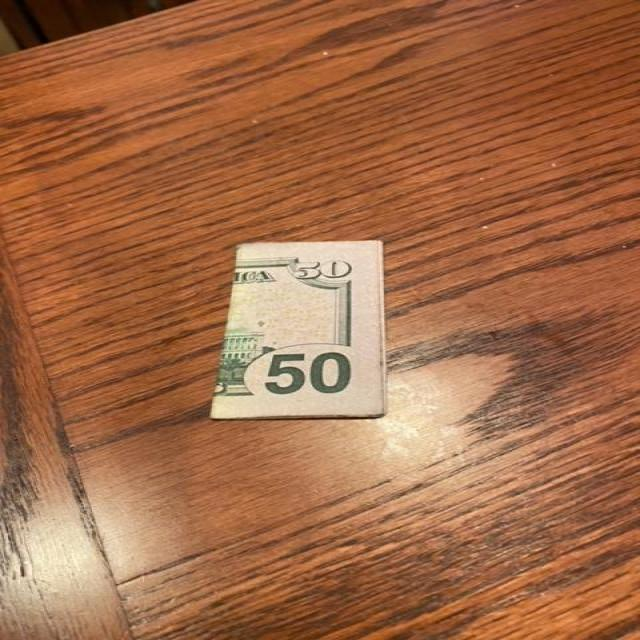50-Front: (209, 241, 387, 419)
